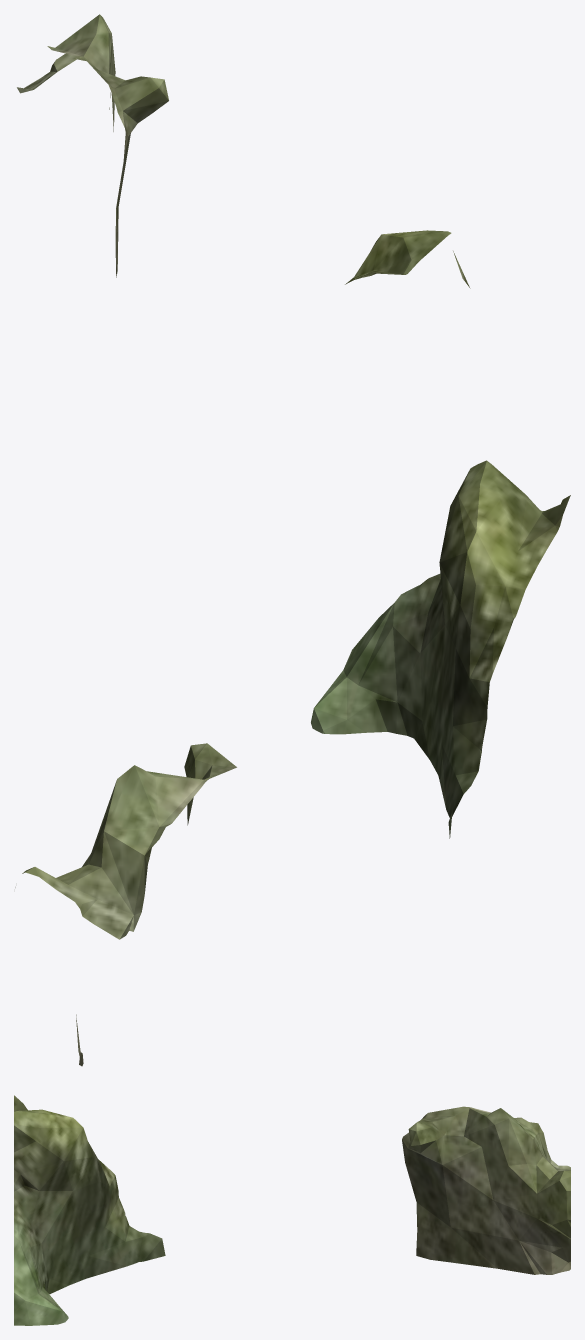
3 renders of one model, top to bottom at view 1: azimuth 30°, elevation 25°; view 2: azimuth 150°, elevation 25°; view 3: azimuth 270°, elevation 25°, orthographic. The views are drawn at different scales.
Bounding box in the file's own units: 1.76 × 1.99 × 5.9.
1 material, 1 textured.
